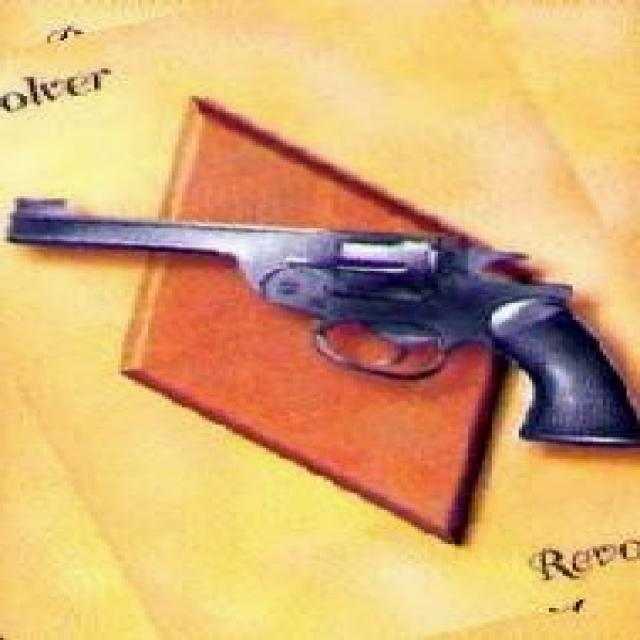pistol: (10, 192, 640, 448)
